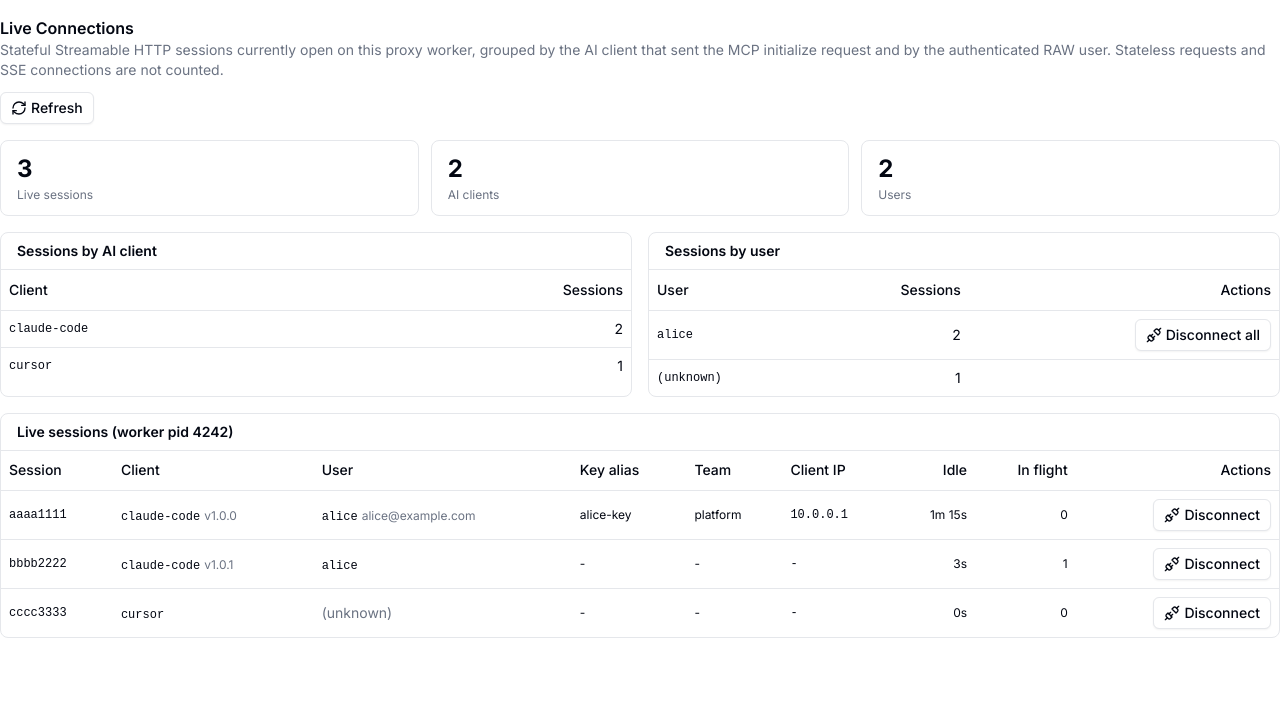
Test: MCPGatewaySessionsTab › disconnects every session of a user from the by-user table
The width and height of the screenshot is (1280, 702).
Click the button with aria-label "Disconnect all sessions for user alice" at (1203, 334), box [1135,318,1271,350]
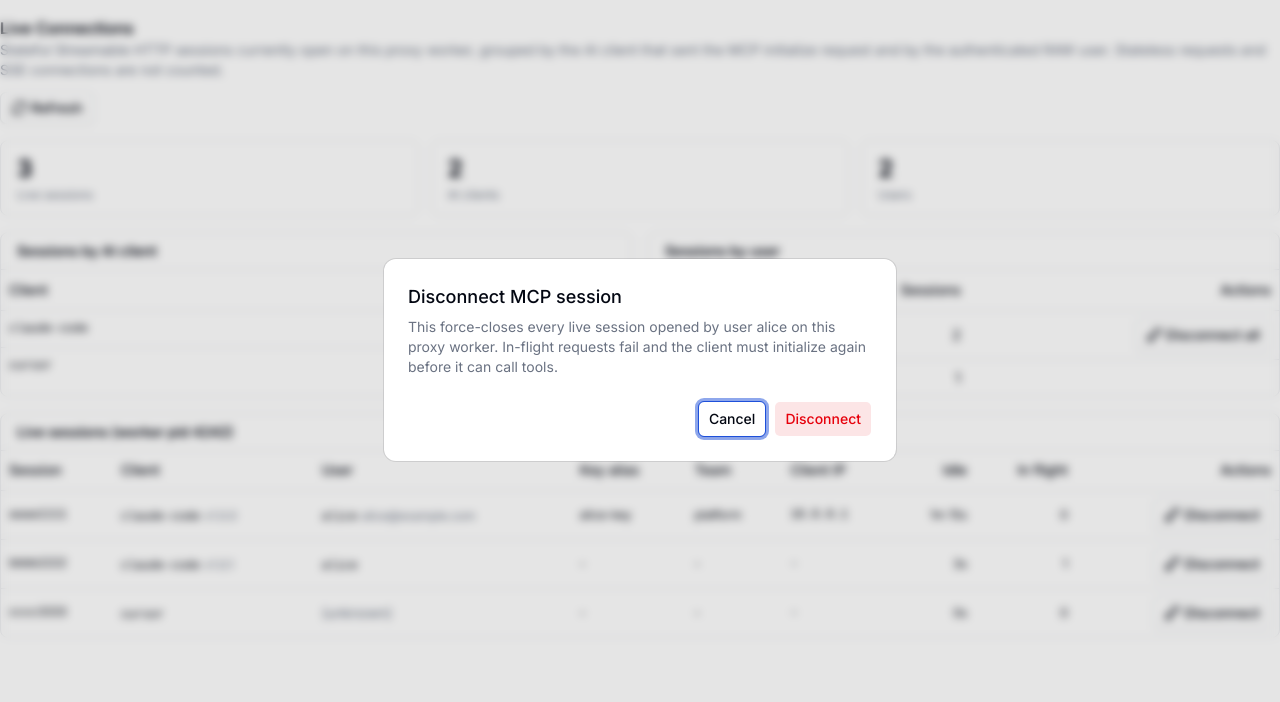
Check: the dialog shows "every live session opened by user alice", box [408,318,835,355]
Click the button "Disconnect" at (823, 419), box [774,401,872,437]
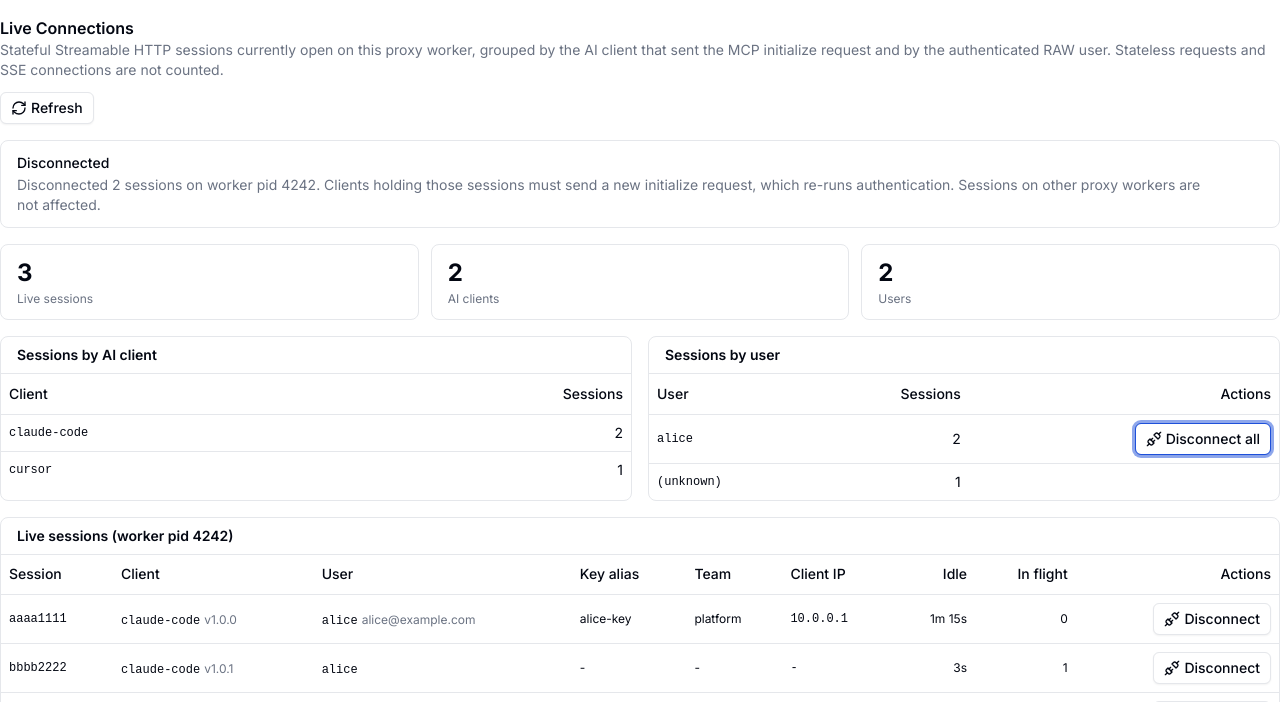
Check: the text "Disconnected 2 sessions on worker pid 4242." is shown, box [17,176,320,193]
